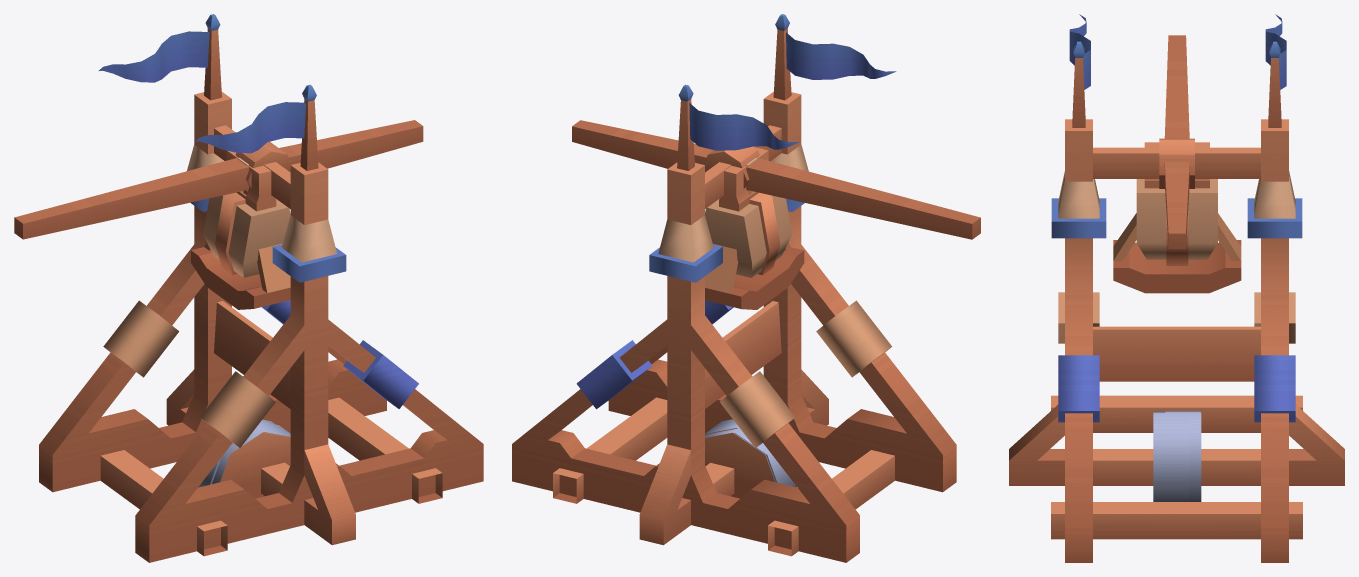
Rendered from siege-trebuchet.glb.
3 views of the same model, side by side, from view 1: azimuth 30°, elevation 25°; view 2: azimuth 150°, elevation 25°; view 3: azimuth 270°, elevation 25° (orthographic).
Visible parts, largest first — view 1: siege-trebuchet, siege-trebuchet.001, siege-trebuchet.003, siege-trebuchet.006, siege-trebuchet.002, siege-trebuchet.004, siege-trebuchet.005; view 2: siege-trebuchet, siege-trebuchet.001, siege-trebuchet.003, siege-trebuchet.002, siege-trebuchet.008, siege-trebuchet.005, siege-trebuchet.009; view 3: siege-trebuchet, siege-trebuchet.001, siege-trebuchet.005, siege-trebuchet.004, siege-trebuchet.007, siege-trebuchet.002, siege-trebuchet.008, siege-trebuchet.003.
Boxes of the visible parts, <box> form: siege-trebuchet: <box>39,14,483,562</box>; siege-trebuchet.001: <box>14,120,423,239</box>; siege-trebuchet.003: <box>203,150,290,277</box>; siege-trebuchet.006: <box>212,427,290,498</box>; siege-trebuchet.002: <box>191,158,283,309</box>; siege-trebuchet.004: <box>191,157,290,306</box>; siege-trebuchet.005: <box>223,153,287,274</box>; siege-trebuchet: <box>512,14,956,562</box>; siege-trebuchet.001: <box>572,120,980,239</box>; siege-trebuchet.003: <box>705,150,792,277</box>; siege-trebuchet.002: <box>705,158,804,309</box>; siege-trebuchet.008: <box>705,428,775,498</box>; siege-trebuchet.005: <box>705,147,767,276</box>; siege-trebuchet.009: <box>734,429,795,486</box>; siege-trebuchet: <box>1009,14,1344,562</box>; siege-trebuchet.001: <box>1159,35,1194,249</box>; siege-trebuchet.005: <box>1136,142,1217,265</box>; siege-trebuchet.004: <box>1113,213,1241,293</box>; siege-trebuchet.007: <box>1153,414,1189,501</box>; siege-trebuchet.002: <box>1113,215,1241,274</box>; siege-trebuchet.008: <box>1189,412,1201,501</box>; siege-trebuchet.003: <box>1136,142,1217,192</box>.
Bounding box in the file's own units: 8.99 × 9.79 × 6.29.
Materials: 1 (1 with a texture image).
